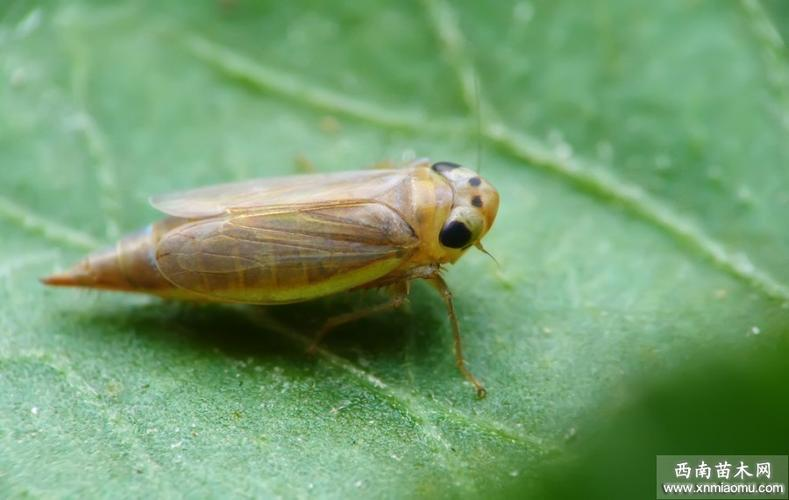Cicadellidae: (35, 158, 502, 399)
